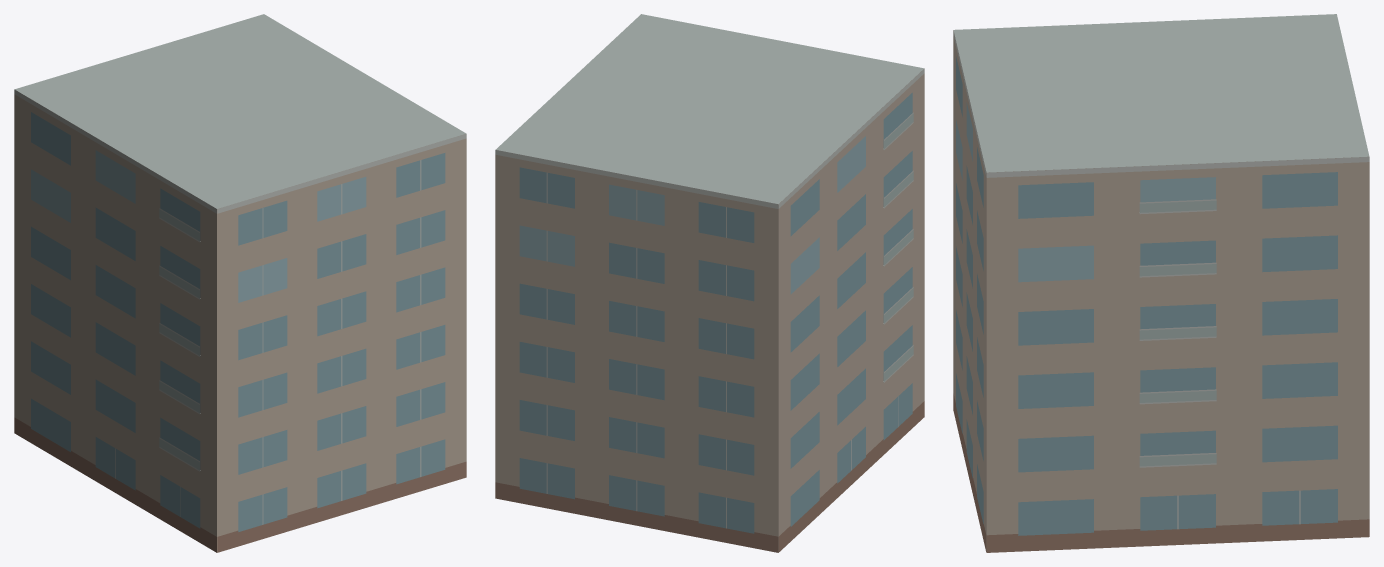
The model's file is survey-upis-32626110.glb.
The picture shows the model from 3 angles, left to right: view 1: azimuth 30°, elevation 25°; view 2: azimuth 150°, elevation 25°; view 3: azimuth 270°, elevation 25°; orthographic projection. The views are drawn at different scales.
Visible parts, largest first — view 1: survey-upis-32626110.tmp; view 2: survey-upis-32626110.tmp; view 3: survey-upis-32626110.tmp.
Part boxes in pixels (x1,y1,x2,y2): survey-upis-32626110.tmp: (14,14,466,552); survey-upis-32626110.tmp: (495,14,924,552); survey-upis-32626110.tmp: (953,14,1369,552).
Bounding box in the file's own units: 15.48 × 17.3 × 17.16.
